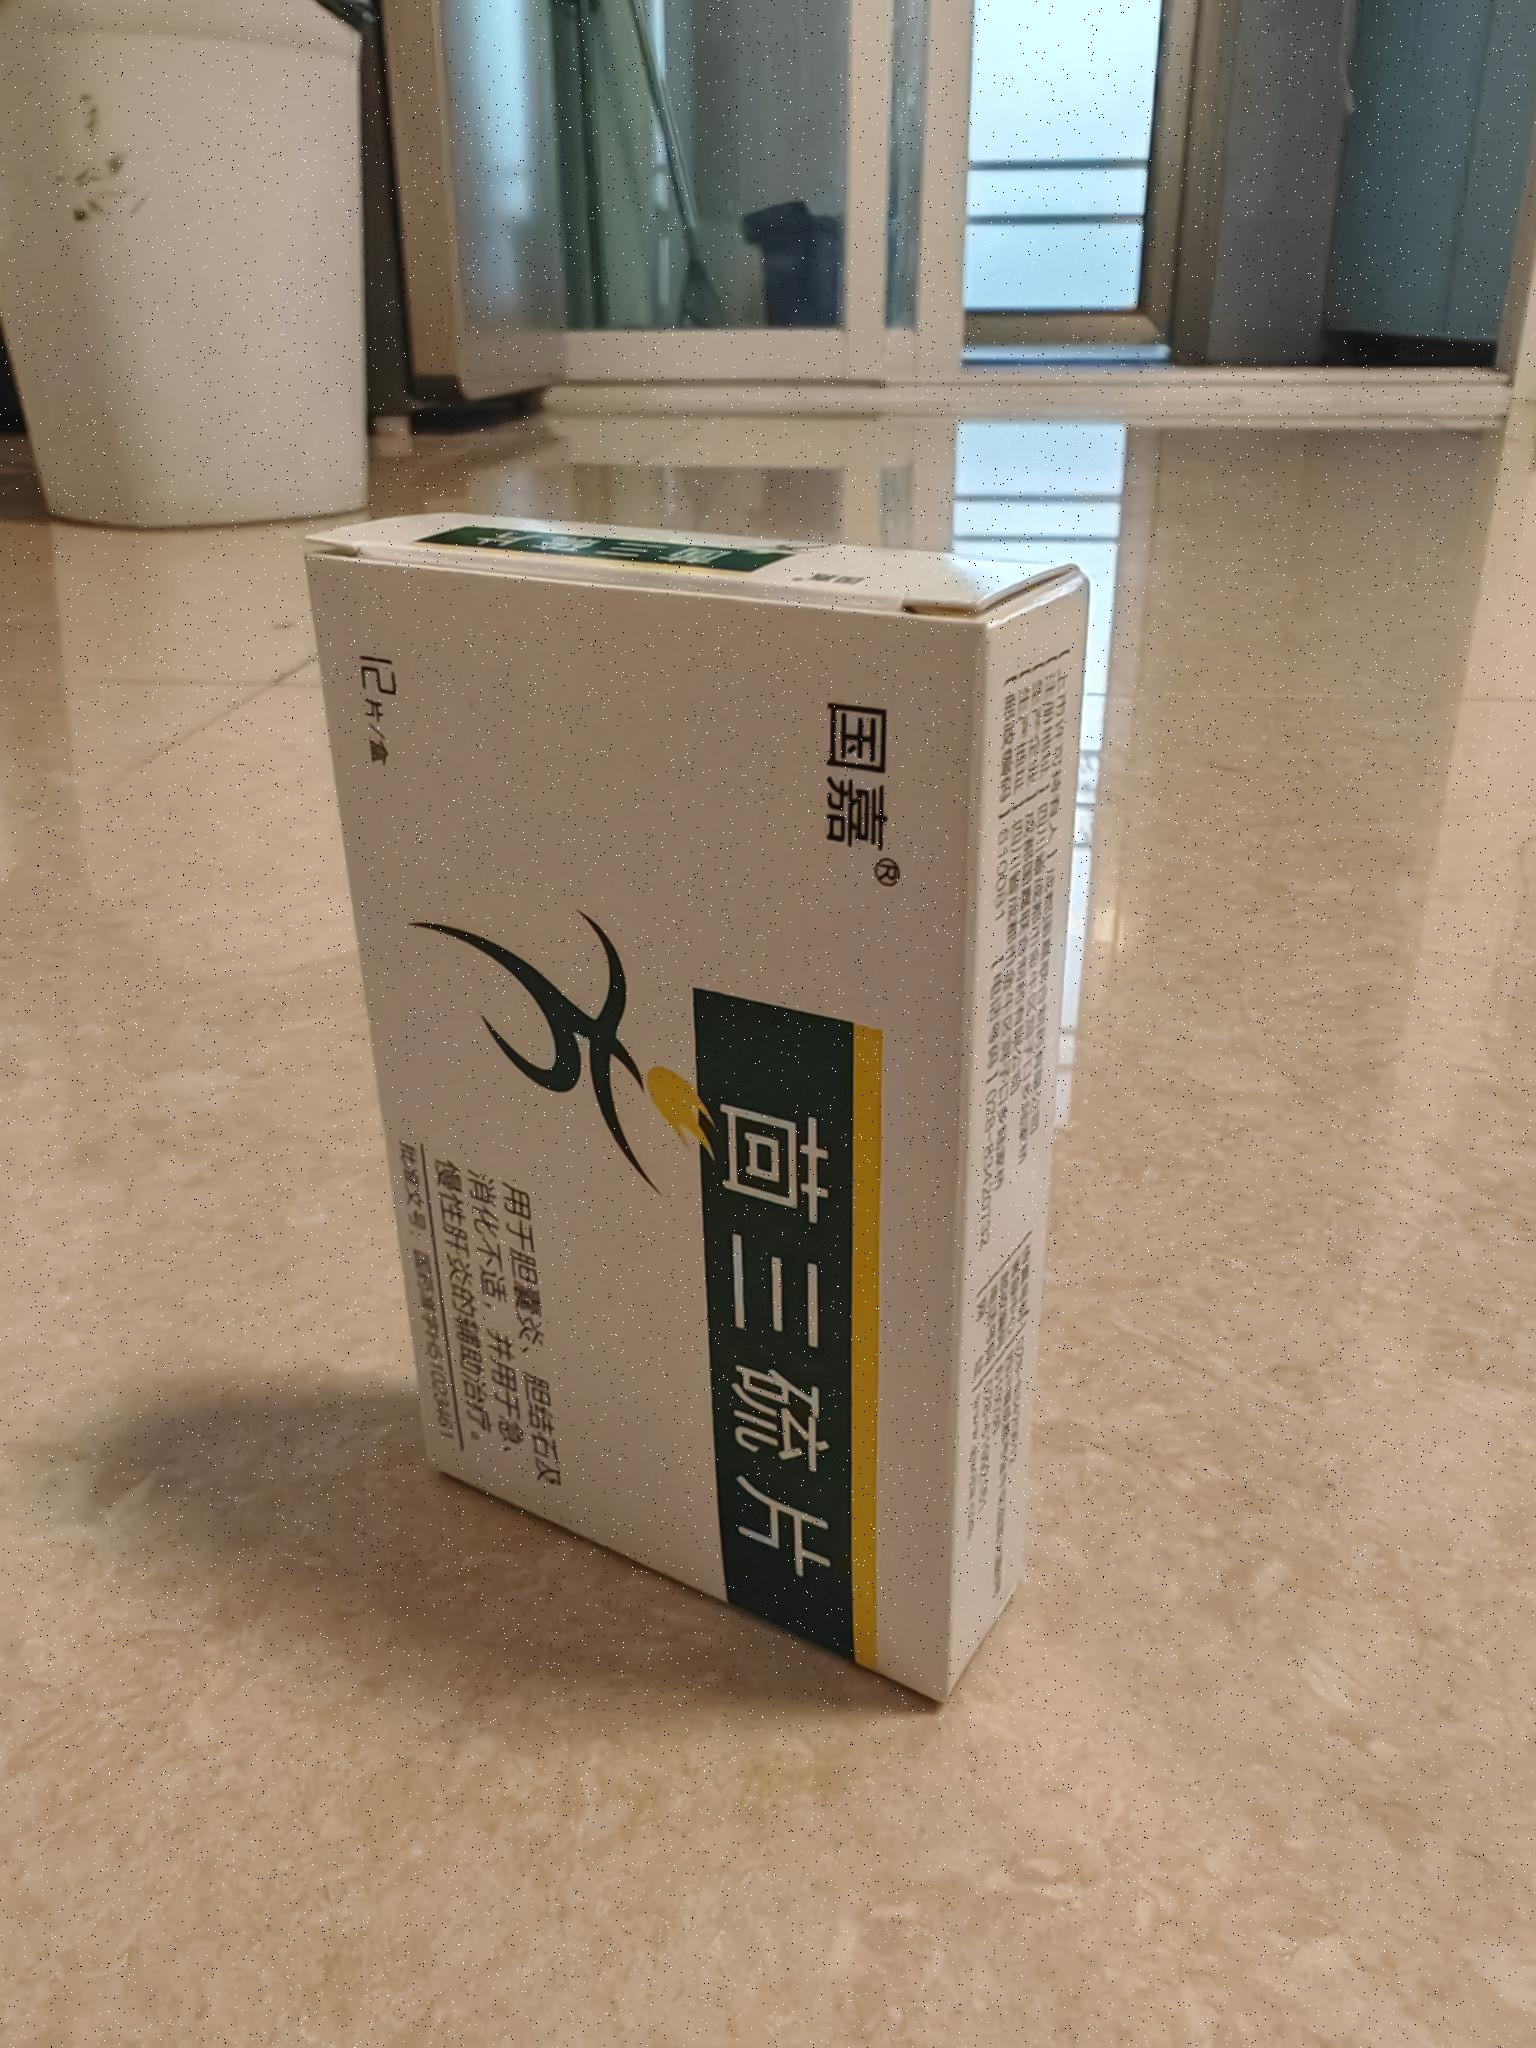Medicine4: (287, 484, 1102, 1735)
